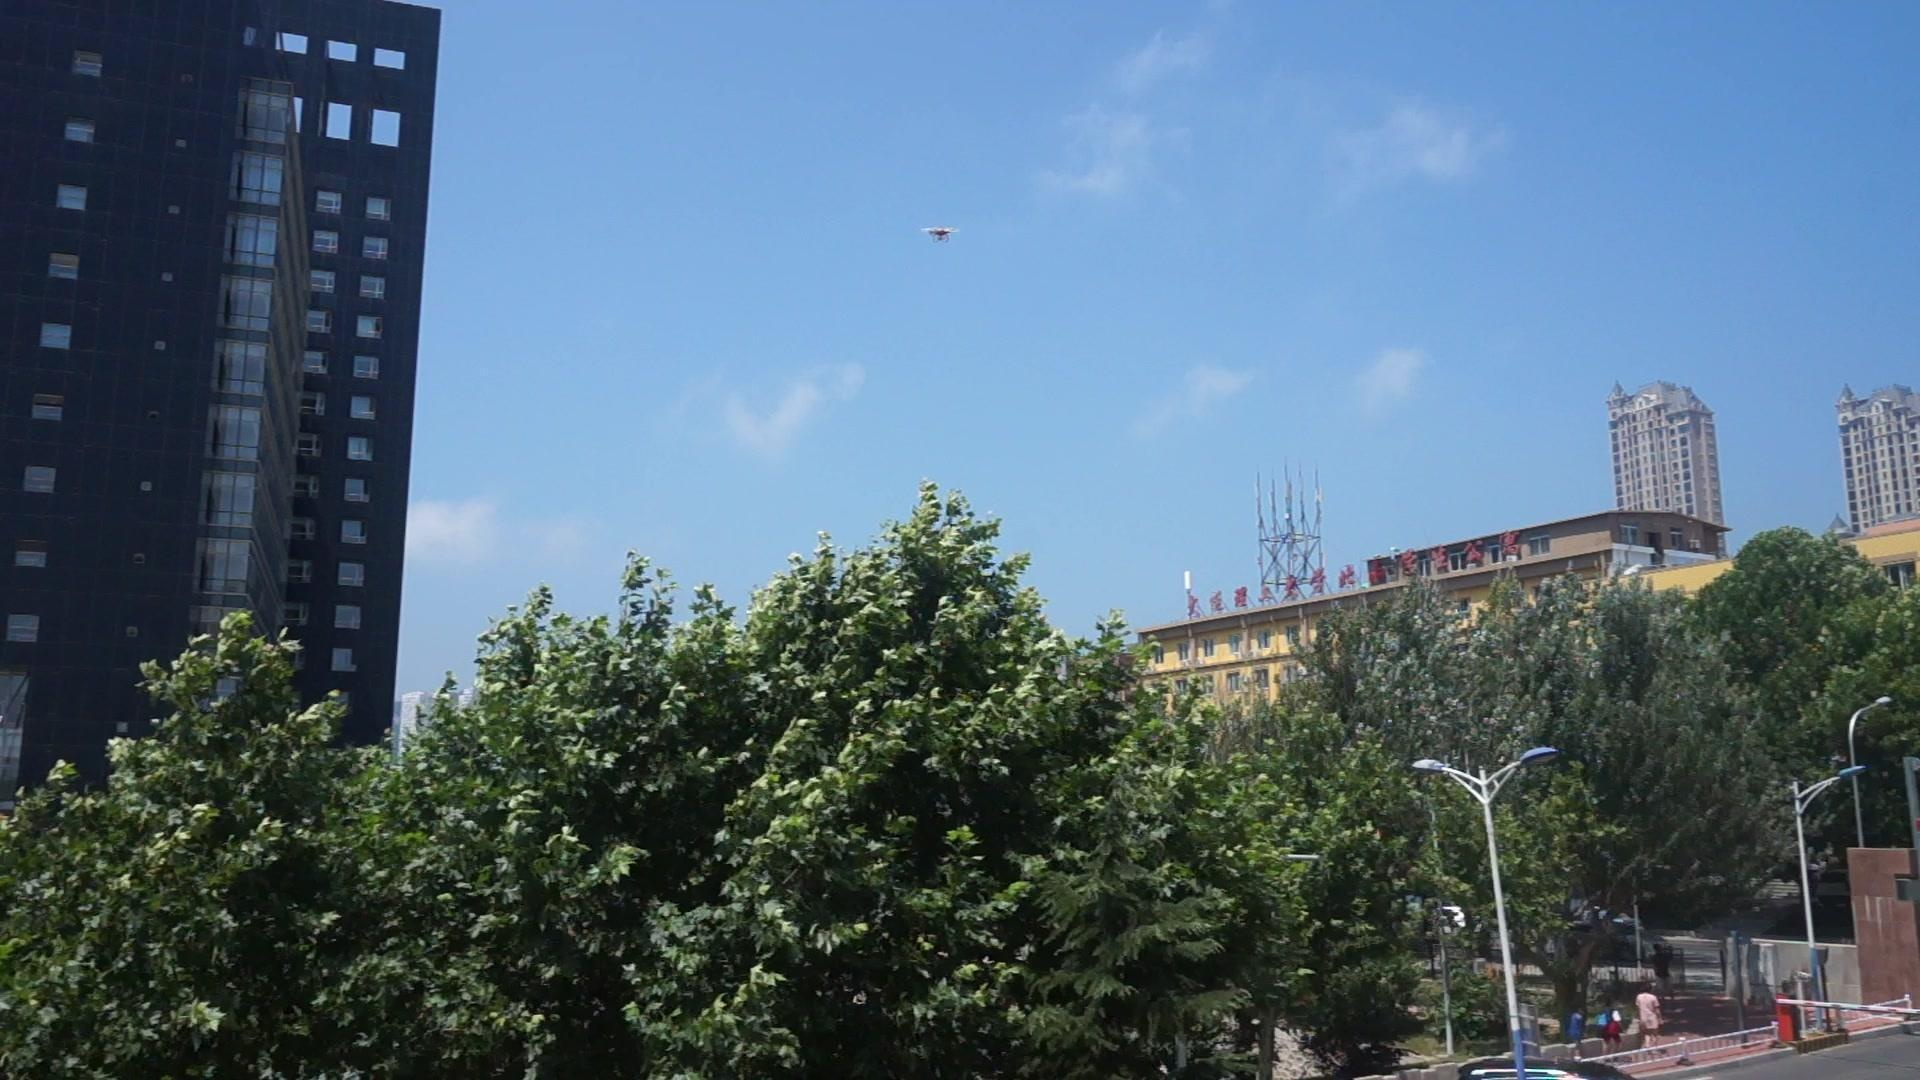UAV: (922, 225, 960, 244)
